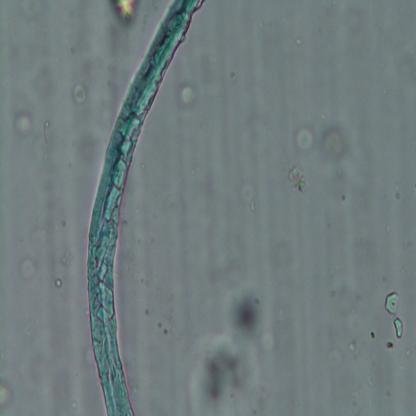Background material: (183, 287, 263, 404), (102, 24, 128, 98), (75, 124, 101, 170), (110, 0, 143, 31), (322, 126, 348, 162), (290, 163, 309, 195), (296, 125, 316, 154), (258, 328, 280, 354), (180, 81, 198, 108), (0, 378, 15, 410), (15, 111, 33, 137), (382, 291, 400, 314), (19, 256, 36, 280), (38, 118, 54, 142), (238, 178, 254, 202), (72, 81, 87, 106), (329, 350, 344, 372), (392, 317, 404, 338), (363, 368, 374, 388), (352, 388, 362, 406), (328, 286, 339, 298), (228, 71, 239, 82), (385, 340, 395, 352), (54, 276, 63, 289), (403, 347, 412, 358), (249, 200, 256, 213), (347, 342, 356, 352), (370, 328, 376, 342), (296, 39, 304, 47), (354, 296, 364, 301)
Cotton: (85, 0, 206, 416)
